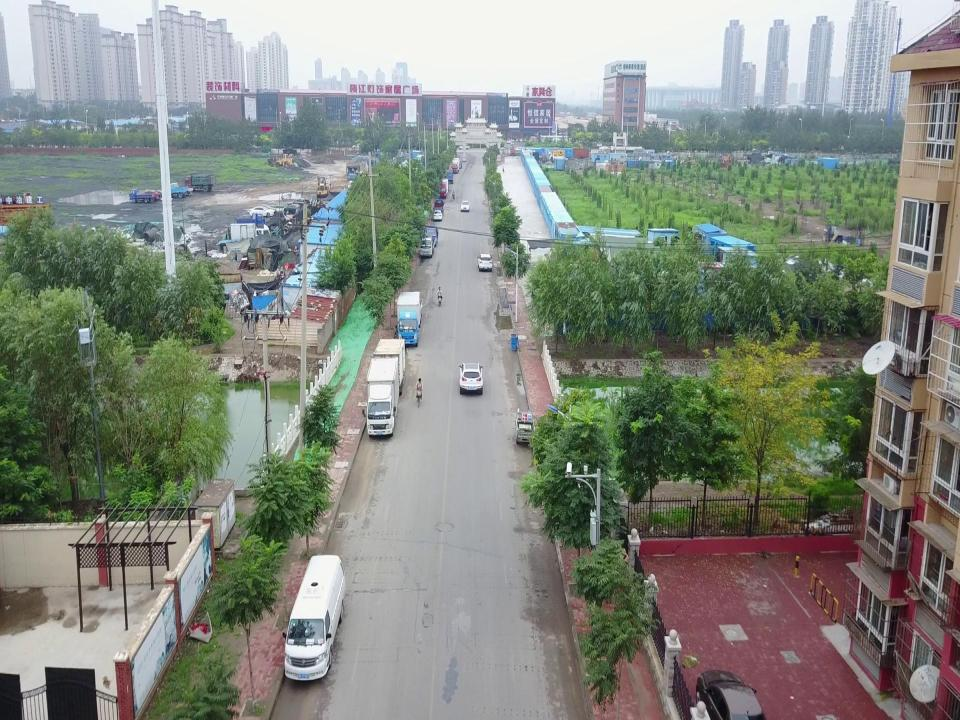car: (695, 665, 770, 720), (458, 360, 484, 397), (249, 205, 275, 218), (477, 252, 493, 272), (140, 189, 158, 204), (145, 190, 167, 202), (252, 204, 276, 214), (284, 203, 304, 215), (292, 198, 312, 210), (460, 199, 470, 213), (433, 209, 443, 222)
truck: (362, 357, 400, 438), (373, 337, 408, 395), (395, 290, 423, 348), (184, 172, 216, 192), (128, 187, 153, 204), (163, 182, 189, 198), (419, 234, 435, 258), (169, 181, 193, 197), (422, 226, 438, 248), (437, 177, 449, 198), (432, 199, 446, 214), (445, 171, 453, 184)
van: (282, 551, 346, 682)
